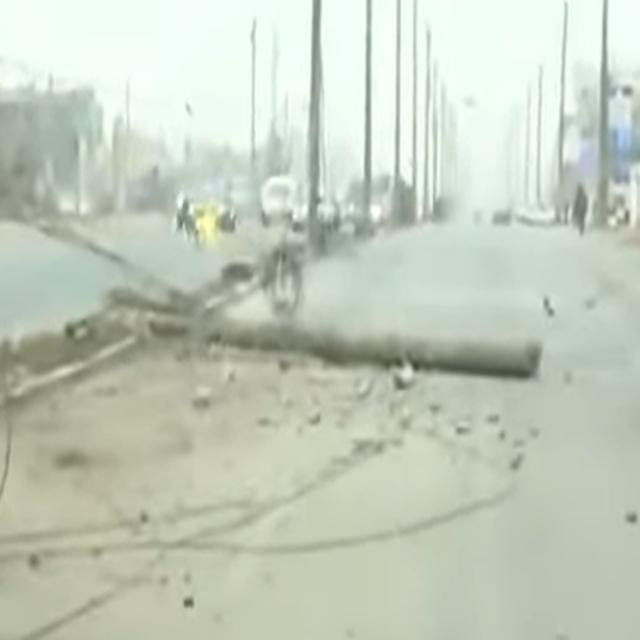Inclined Pole: (113, 273, 552, 400)
